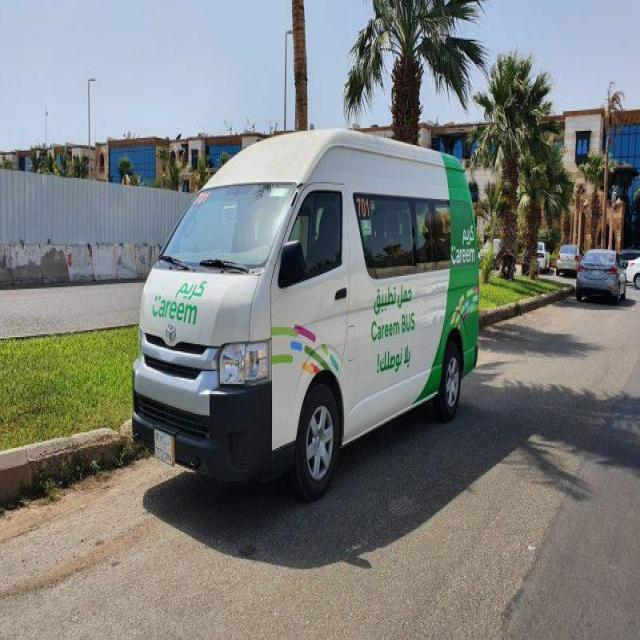license_plate: (153, 428, 175, 470), (592, 270, 600, 276), (564, 264, 569, 268)
